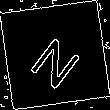N_NE: (24, 23, 86, 87)
